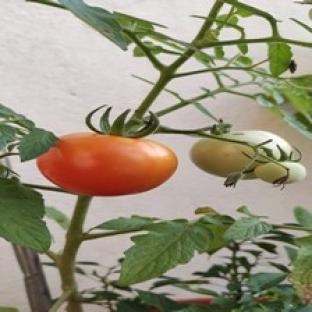Tomato: (37, 133, 178, 196), (190, 130, 292, 178), (223, 130, 292, 158), (255, 162, 306, 185)
